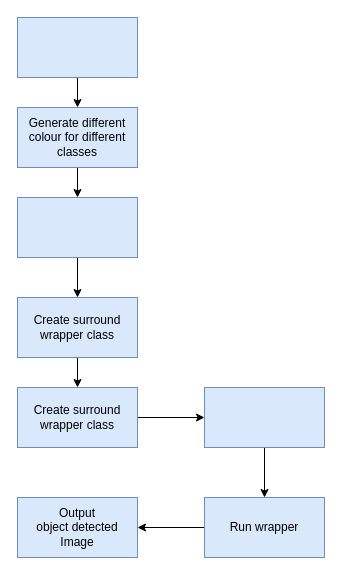
The diagram is 342 pixels wide and 575 high, and some of its shapes have lost their labels. The shapes that lost their labels are listed below. From the top down, each one's centre as x and y in pixels, then its label:
At (77,47): "Read the image and classes".
At (77,227): "Read pre-trained model and config file".
At (264,417): "get configuration for the wrapper".
